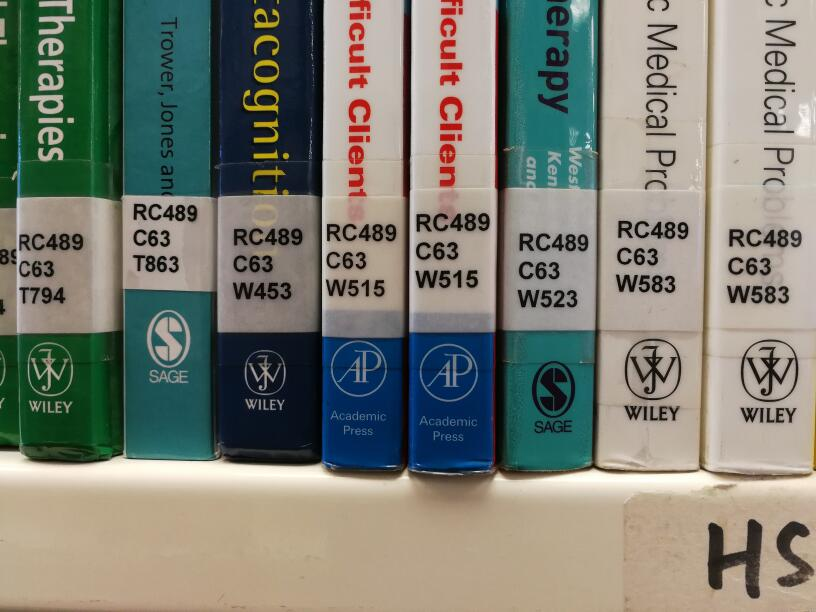booklabel: (725, 226, 803, 306), (413, 211, 490, 289), (515, 231, 590, 308), (614, 219, 689, 294), (229, 226, 303, 300), (324, 223, 397, 297), (130, 202, 200, 275), (17, 231, 85, 306)
